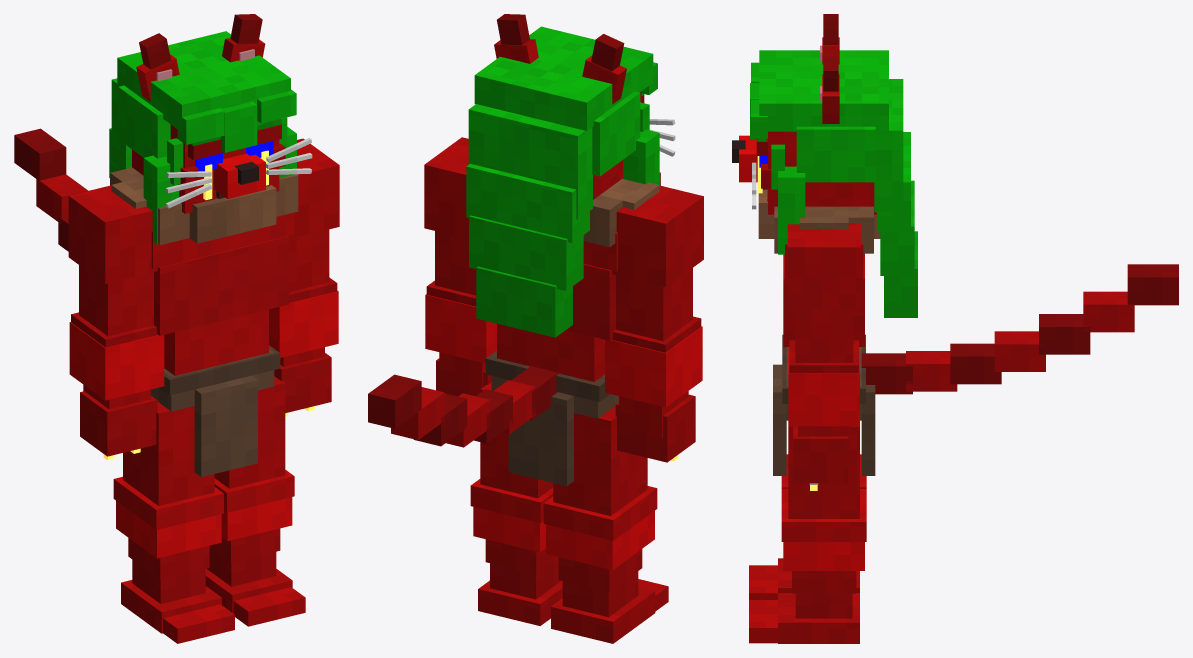
File: beastfolk_s0_evo2.glb
3 views of the same model, side by side, from view 1: azimuth 30°, elevation 25°; view 2: azimuth 150°, elevation 25°; view 3: azimuth 270°, elevation 25° (orthographic). The views are drawn at different scales.
Parts seen in each view (by area): view 1: Torso, Head, ArmR, LegR, LegL, ArmL; view 2: Head, Torso, ArmR, LegR, ArmL, LegL; view 3: Head, Torso, ArmL, LegL, LegR.
Part boxes in pixels (<box>): Torso: <box>14,128,298,476</box>; Head: <box>109,14,312,244</box>; ArmR: <box>68,185,164,460</box>; LegR: <box>113,402,234,643</box>; LegL: <box>205,376,305,626</box>; ArmL: <box>269,138,339,416</box>; Head: <box>466,14,675,337</box>; Torso: <box>368,163,660,486</box>; ArmR: <box>605,185,703,462</box>; LegR: <box>543,406,668,643</box>; ArmL: <box>424,137,496,396</box>; LegL: <box>470,382,562,625</box>; Head: <box>732,14,917,317</box>; Torso: <box>758,189,1178,475</box>; ArmL: <box>787,224,860,490</box>; LegL: <box>749,426,866,643</box>; LegR: <box>749,454,866,599</box>.
Size of the model in its own units: 0.797 by 1.86 by 1.31.
30 materials, 30 textured.
